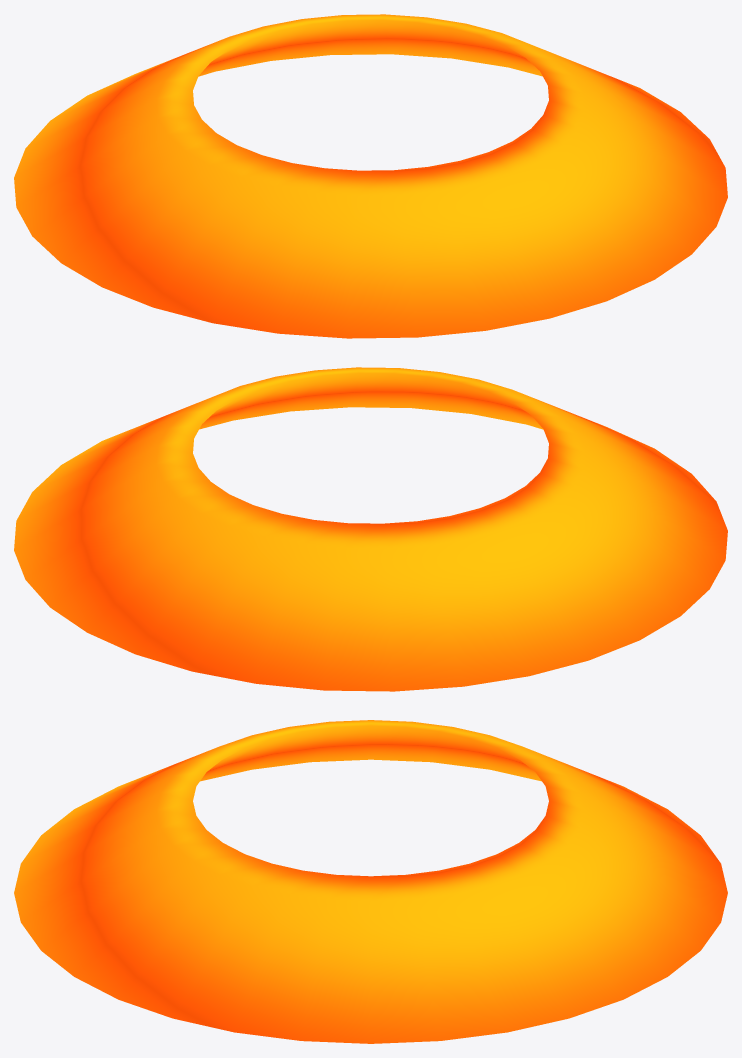
The model's file is p_trashbot_goo_projectile_large_base_pose1.fbx.
3 renders of one model, top to bottom at view 1: azimuth 30°, elevation 25°; view 2: azimuth 150°, elevation 25°; view 3: azimuth 270°, elevation 25°, orthographic.
Parts seen in each view (by area): view 1: Splash1_pose0; view 2: Splash1_pose0; view 3: Splash1_pose0.
Boxes of the visible parts, x1=… form: Splash1_pose0: x1=14, y1=14, x2=727, y2=338; Splash1_pose0: x1=14, y1=367, x2=727, y2=691; Splash1_pose0: x1=14, y1=720, x2=727, y2=1043.
Size of the model in its own units: 12.49 by 1.78 by 12.49.
